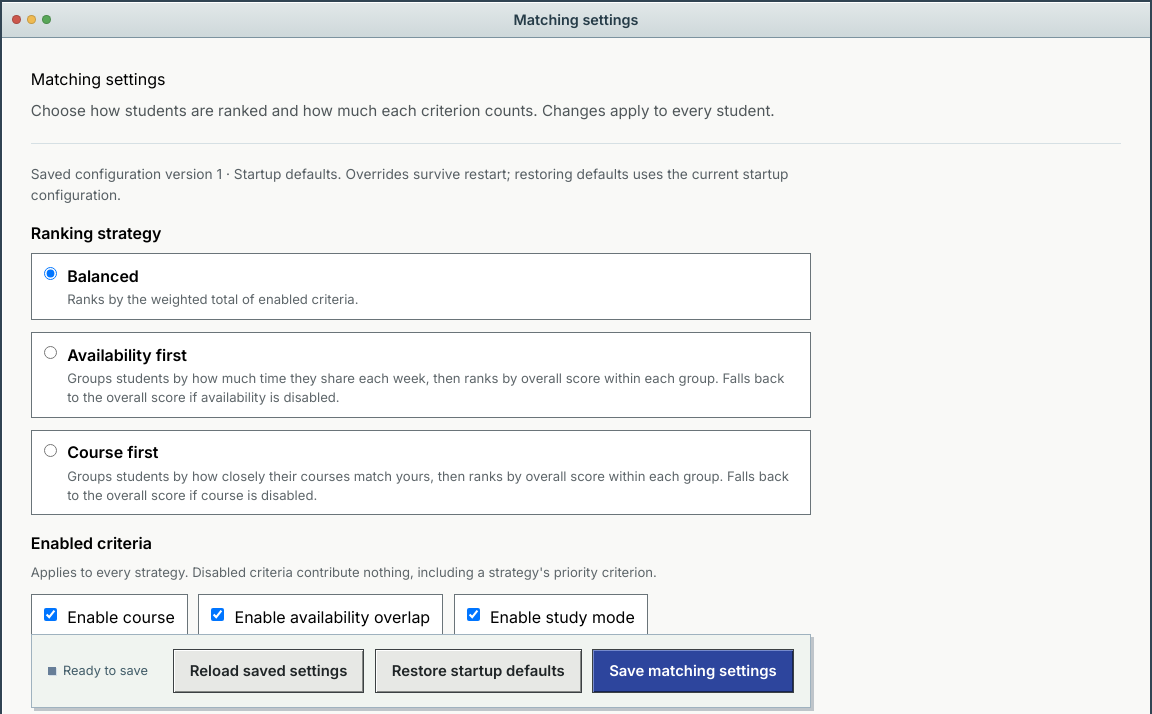
admin matching settings › shows the server's reason when saving fails
The image size is (1152, 714).
Click the button "Save matching settings": [693, 671] box [592,649,794,693]
(page scrolled)
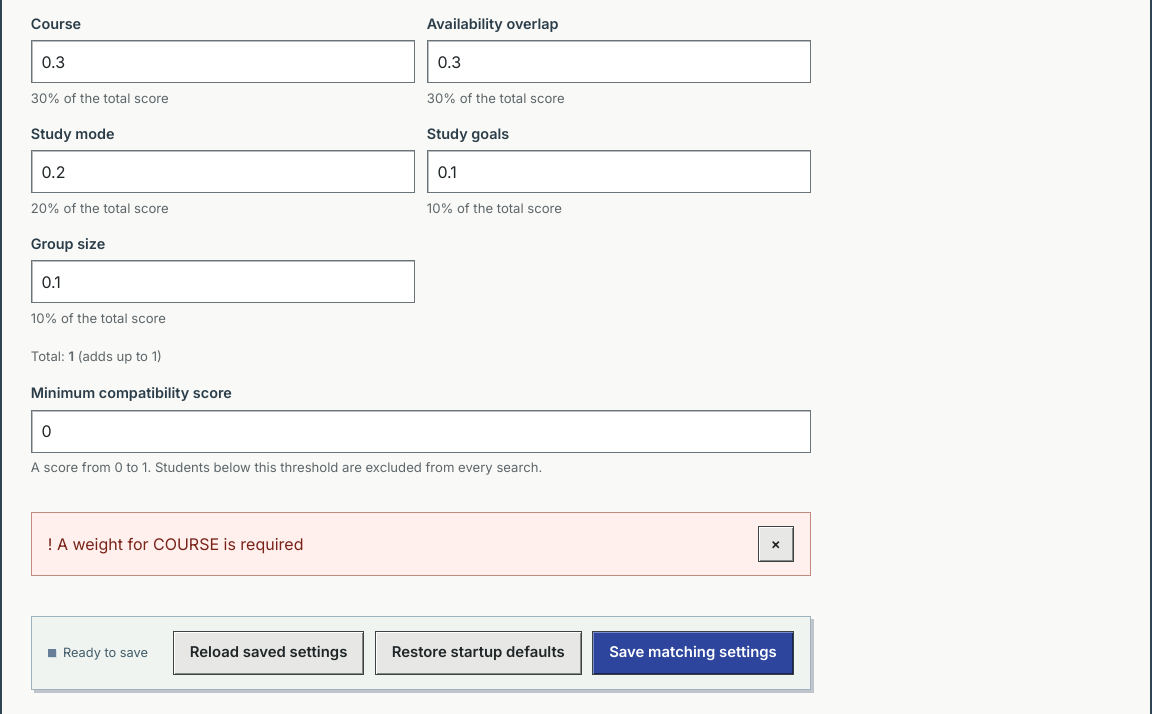
expect the text "A weight for COURSE is required" is shown: met, box [57,534,304,554]
